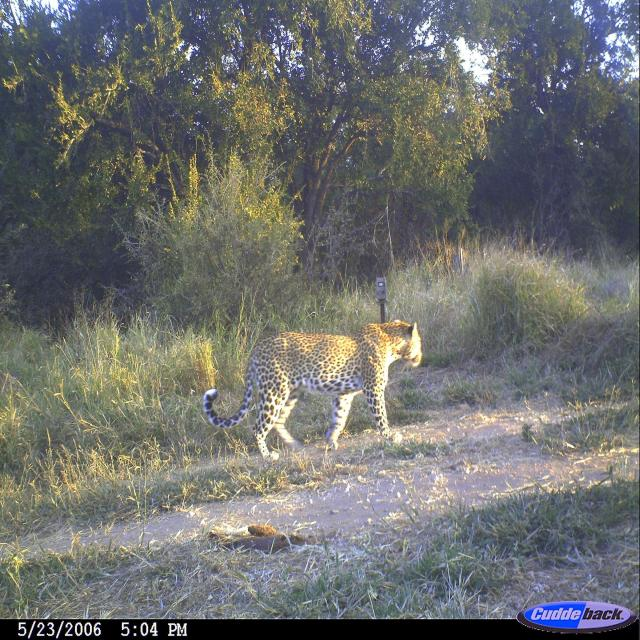Leopard: (193, 313, 420, 461)
